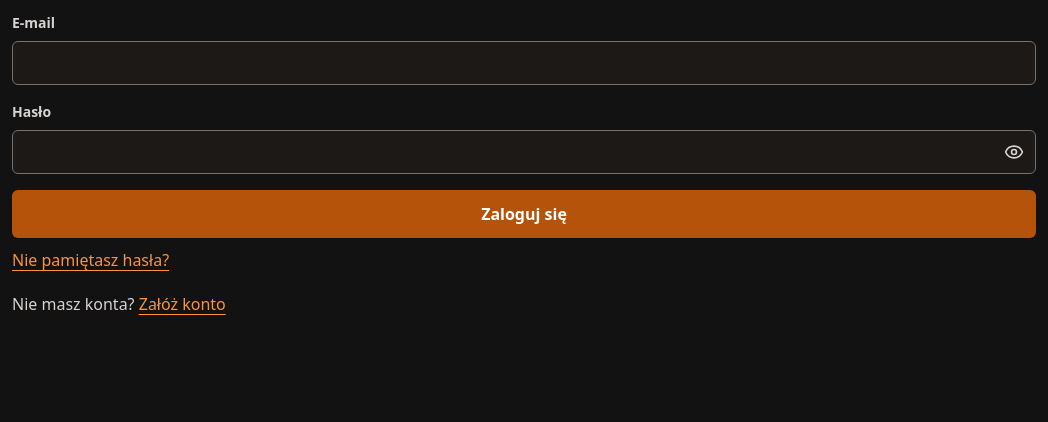
Test case: LoginForm › shows the rate limit with Retry-After 90
Type "ala@example.com" into the field labelled "E-mail".
click(524, 63); type("ala@example.com")  # box [12,41,1036,85]
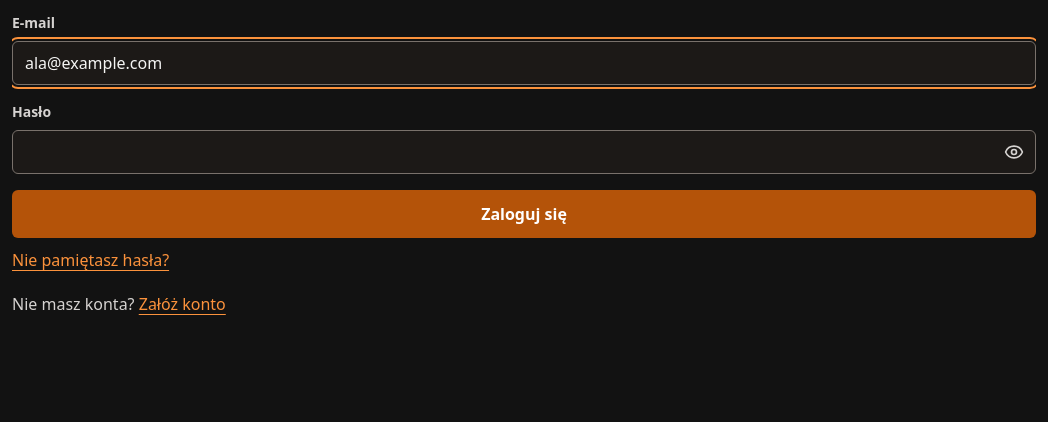
Type "secret123" into the password field labelled "Hasło".
click(524, 152); type("secret123")  # box [12,130,1036,174]
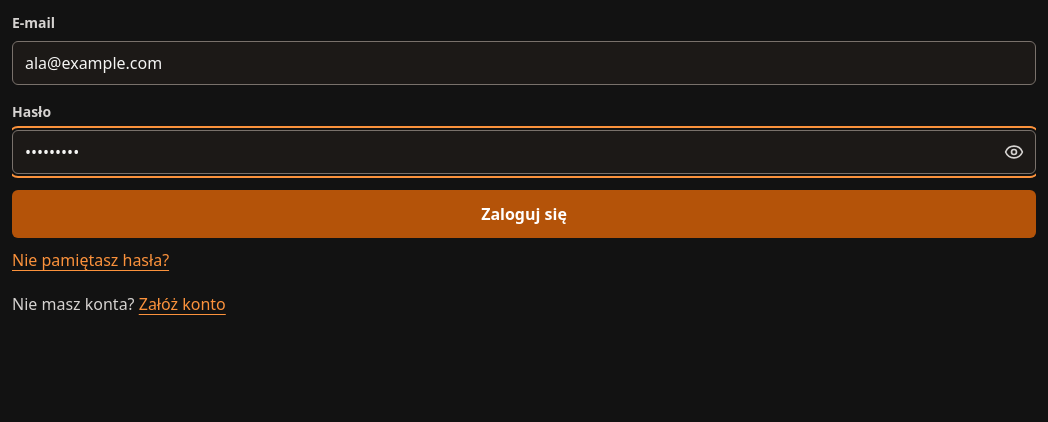
Click the button "Zaloguj się".
click(524, 214)  # box [12,190,1036,238]
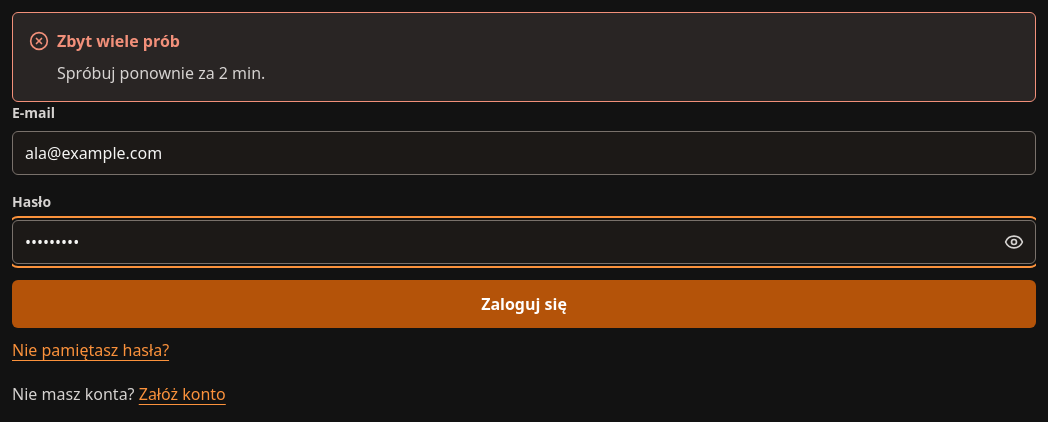
expect the element with test id "login-error" shows "Zbyt wiele prób": met, box [57,30,180,52]
expect the element with test id "login-error" shows "Spróbuj ponownie za 2 min.": met, box [57,62,265,84]
